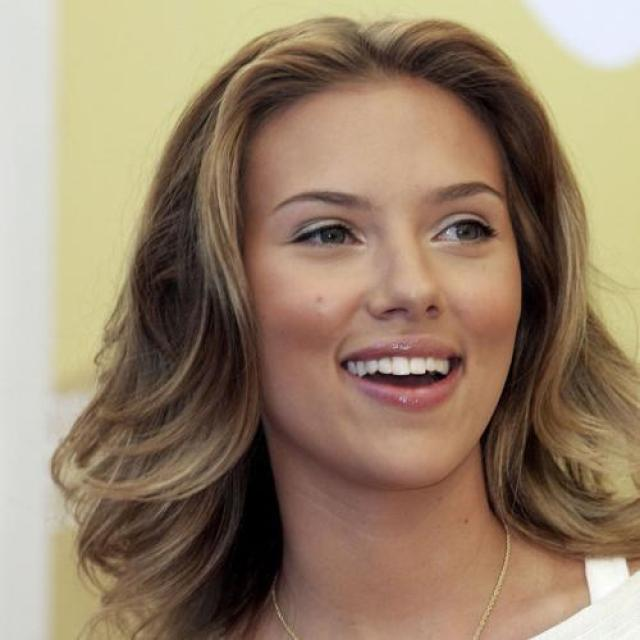0_rostro_limpio: (225, 56, 528, 498)
